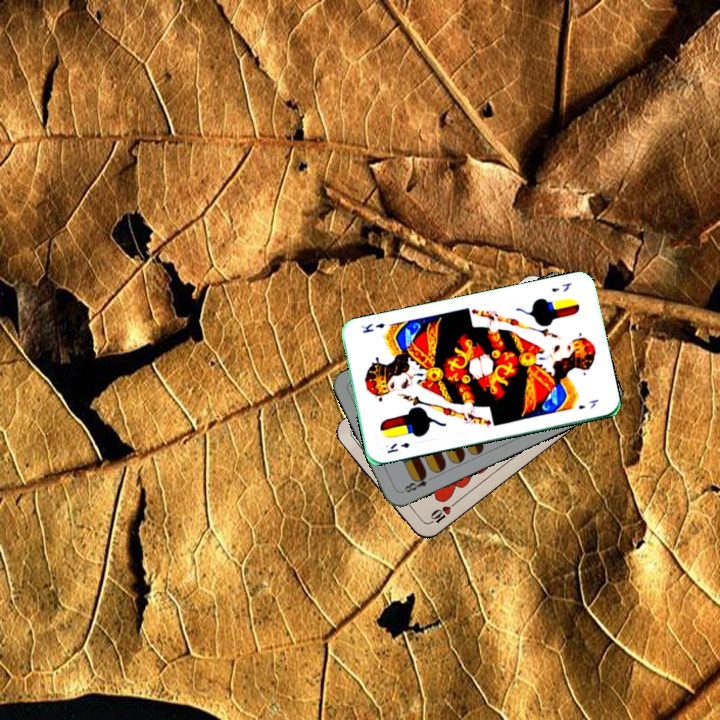E8: (398, 469, 437, 495)
EK: (383, 438, 412, 456), (547, 279, 574, 295)
H10: (423, 498, 458, 527)
